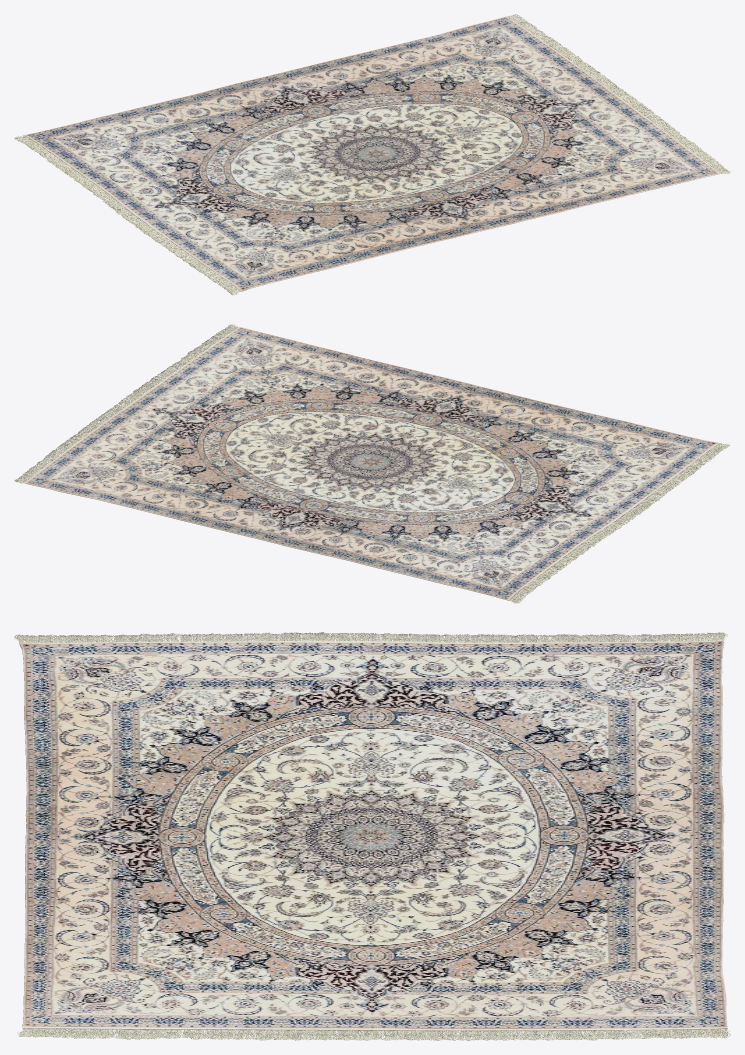
The model's file is persian_nain_carpet.glb.
3 renders of one model, top to bottom at view 1: azimuth 30°, elevation 25°; view 2: azimuth 150°, elevation 25°; view 3: azimuth 270°, elevation 25°, orthographic. The views are drawn at different scales.
Visible parts, largest first — view 1: Persian Nain Carpet_2, frange1_0, frange2_1; view 2: Persian Nain Carpet_2, frange1_0, frange2_1; view 3: Persian Nain Carpet_2, frange2_1, frange1_0.
Boxes of the visible parts, <box> form: Persian Nain Carpet_2: <box>24,16,719,291</box>; frange1_0: <box>14,135,240,295</box>; frange2_1: <box>507,14,730,173</box>; Persian Nain Carpet_2: <box>25,327,719,600</box>; frange1_0: <box>508,443,730,603</box>; frange2_1: <box>14,324,238,483</box>; Persian Nain Carpet_2: <box>19,640,727,1030</box>; frange2_1: <box>17,1028,730,1040</box>; frange1_0: <box>14,632,727,642</box>.
Bounding box in the file's own units: 4.17 × 0.0247 × 3.1.
2 materials, 1 textured.
